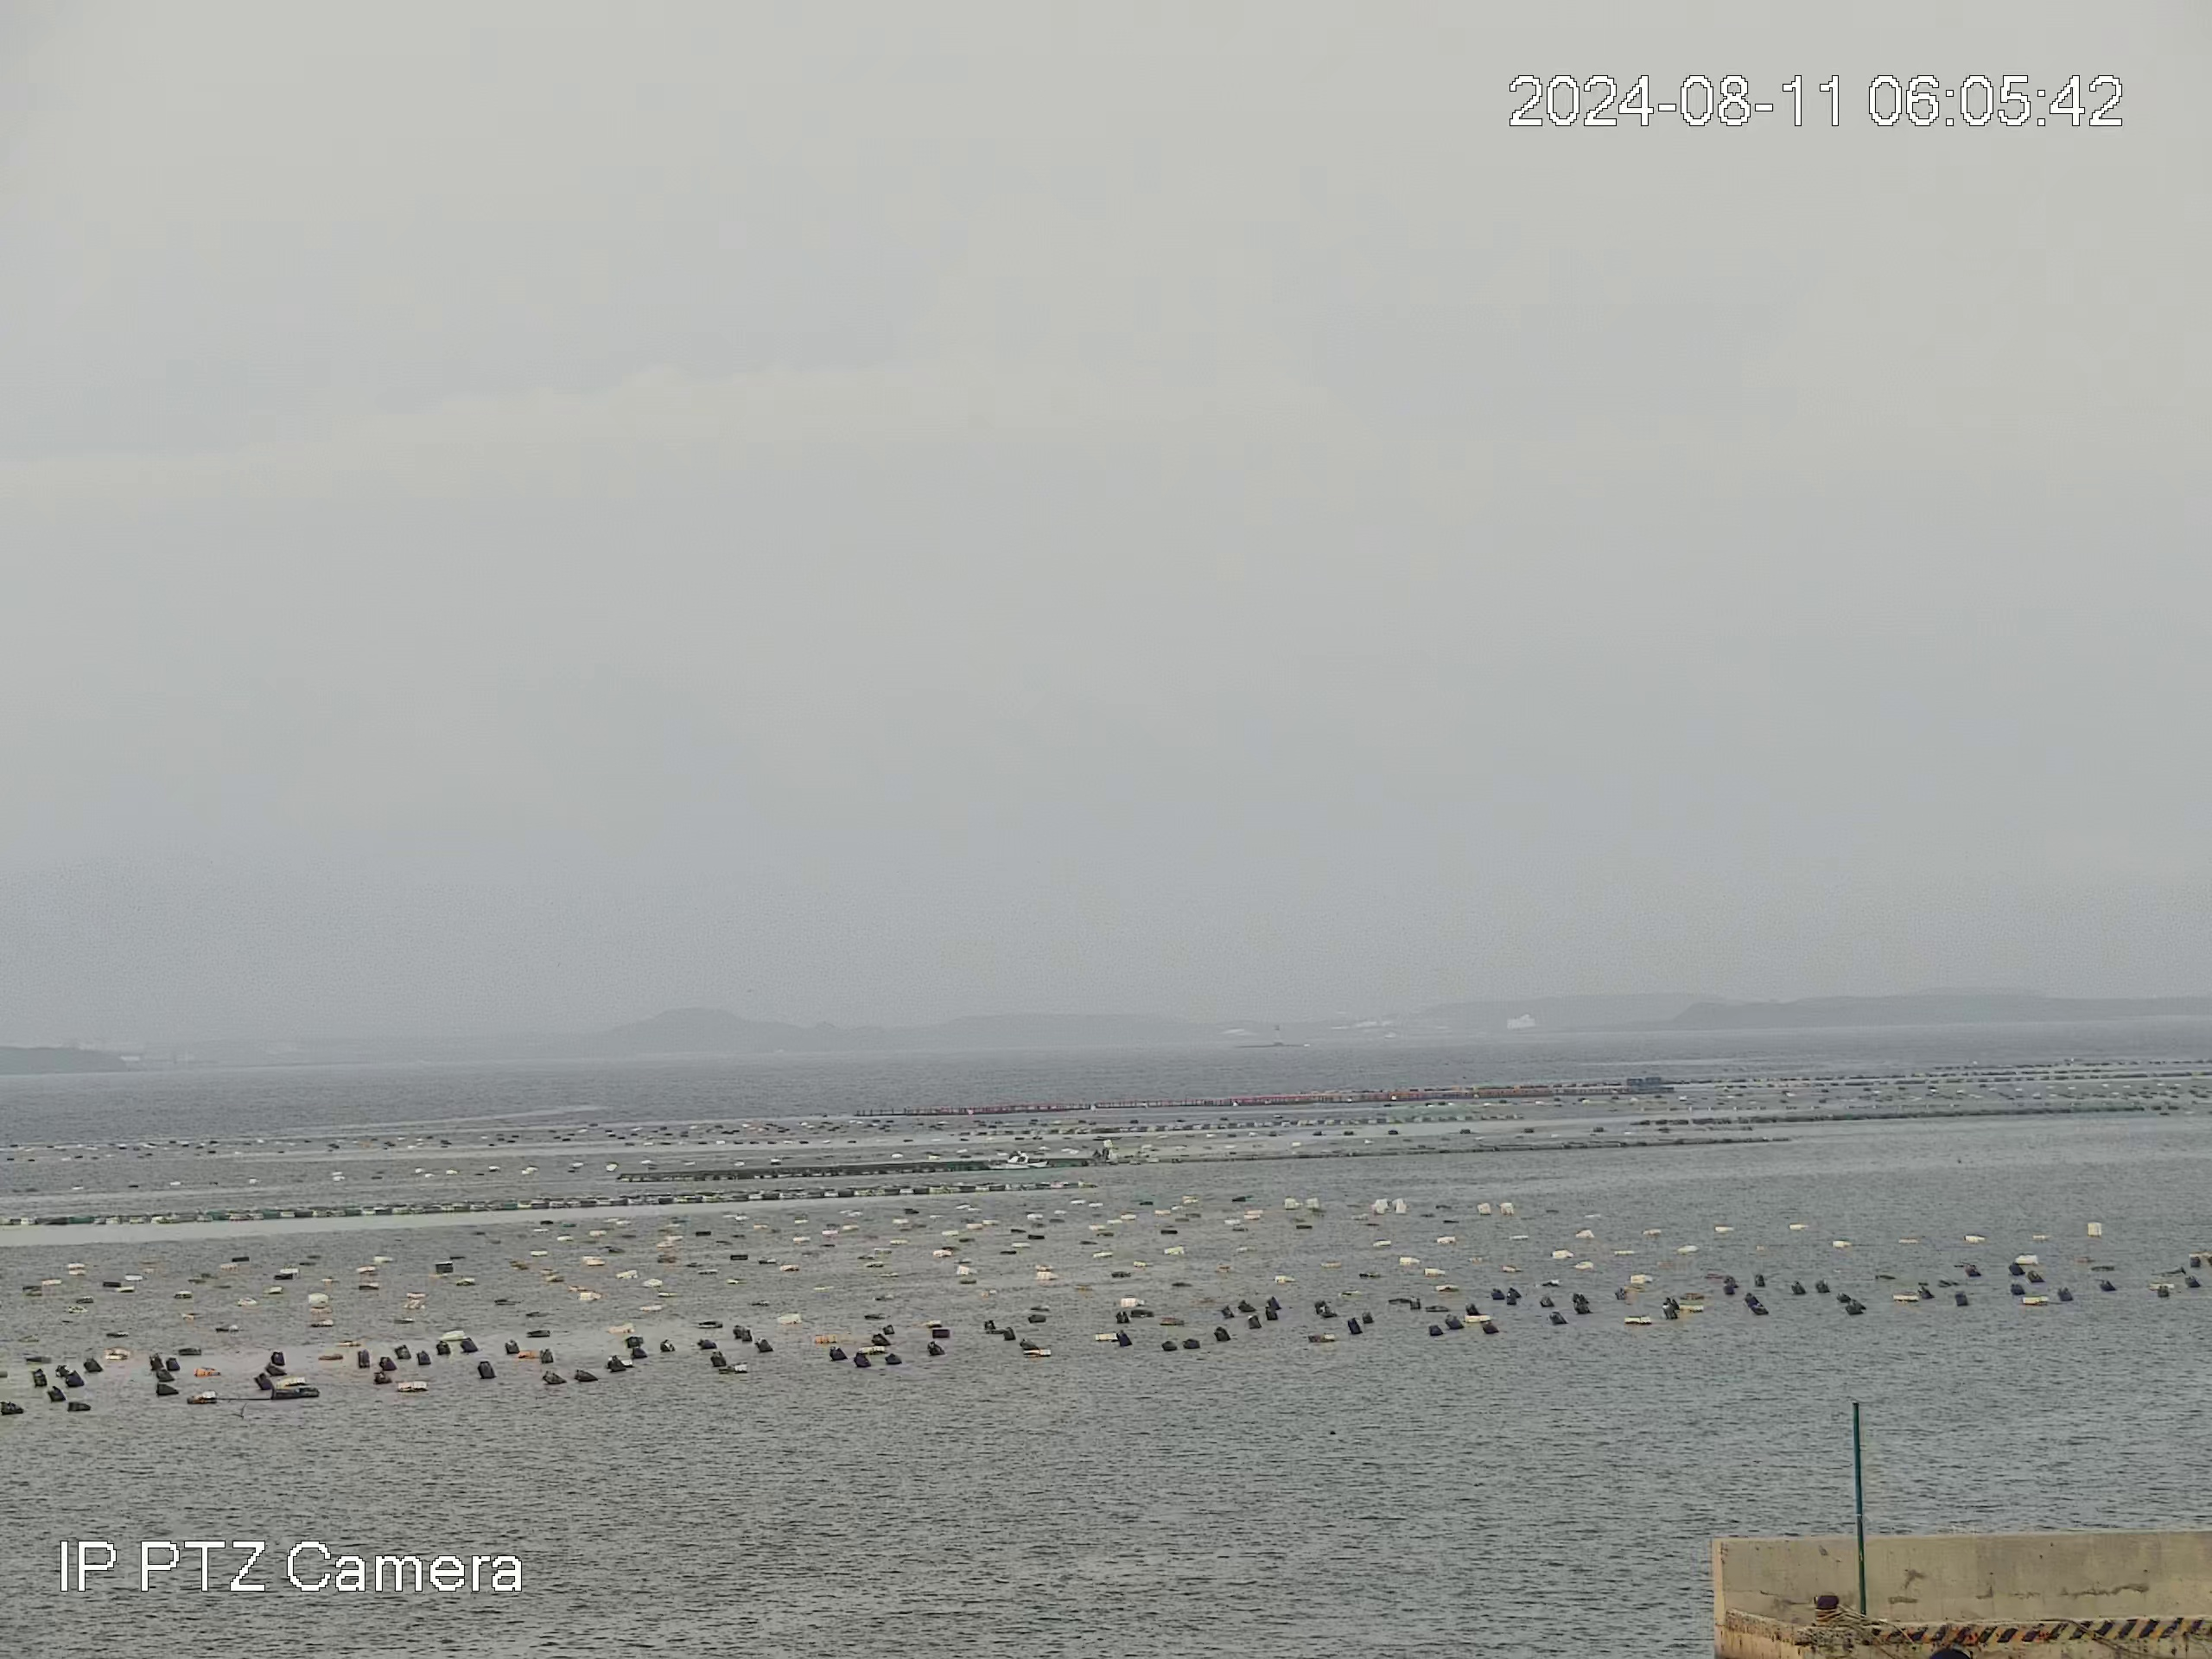boat: (986, 1148, 1050, 1171)
